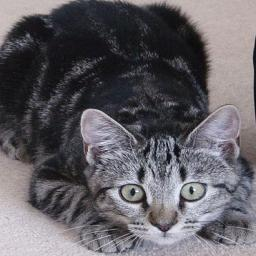catnose: (148, 210, 179, 232)
